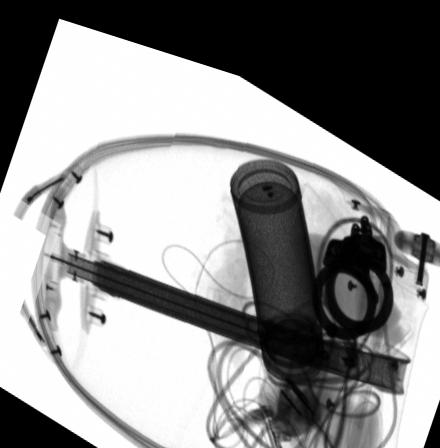HandCuffs: (306, 189, 395, 322)
